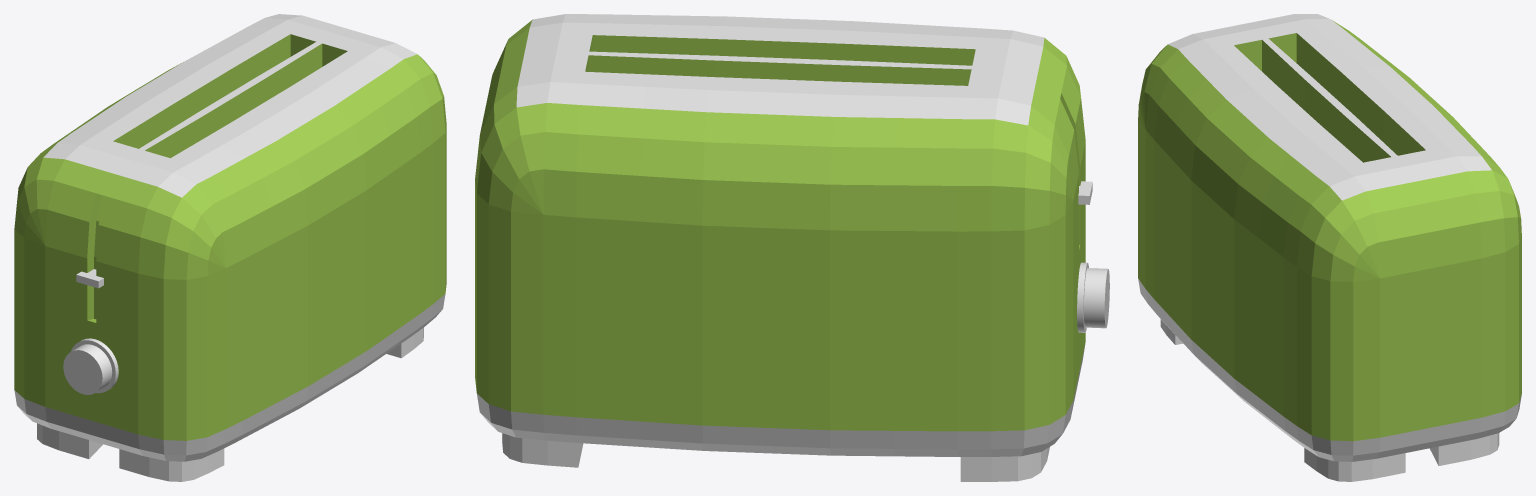
The model's file is Toaster.gltf.
3 views of the same model, side by side, from view 1: azimuth 30°, elevation 25°; view 2: azimuth 150°, elevation 25°; view 3: azimuth 270°, elevation 25° (orthographic). The views are drawn at different scales.
Visible parts, largest first — view 1: node-0; view 2: node-0; view 3: node-0.
Part boxes in pixels (x1=…): node-0: x1=14, y1=14, x2=446, y2=481; node-0: x1=475, y1=14, x2=1109, y2=481; node-0: x1=1138, y1=14, x2=1521, y2=481.
Bounding box in the file's own units: 1637994 × 1046109 × 1262701.
